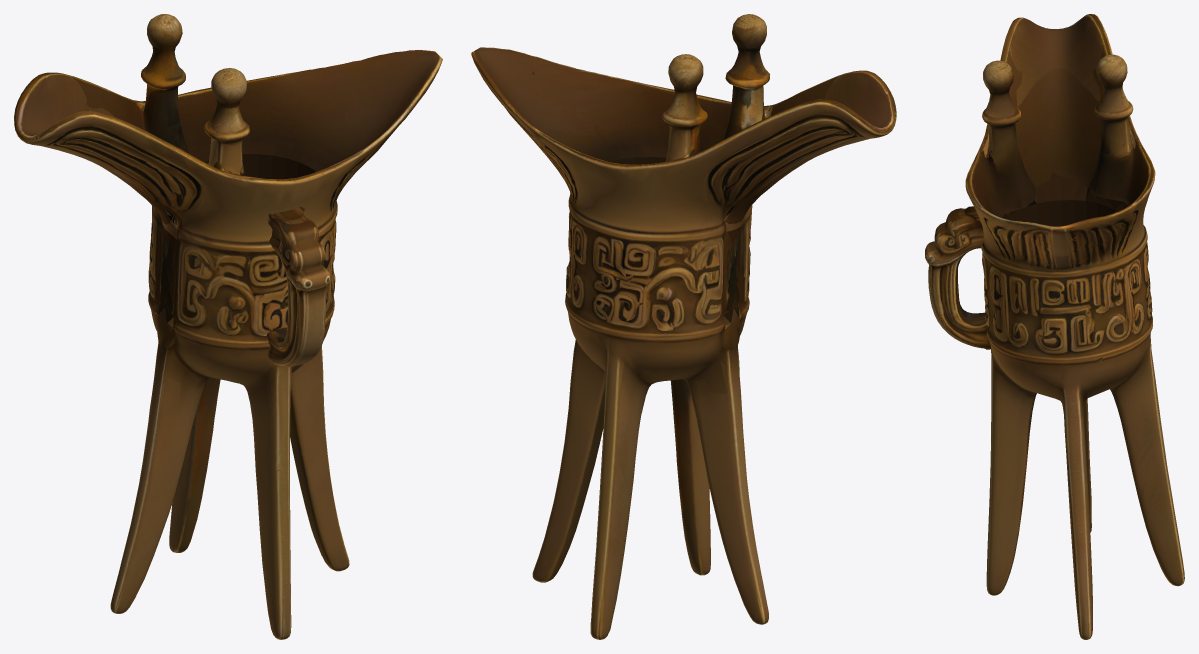
Rendered from Jue-cup 1.fbx.
3 renders of one model, left to right at view 1: azimuth 30°, elevation 25°; view 2: azimuth 150°, elevation 25°; view 3: azimuth 270°, elevation 25°, orthographic. The views are drawn at different scales.
Visible parts, largest first — view 1: Jue_cup; view 2: Jue_cup; view 3: Jue_cup.
Boxes of the visible parts, box(x1,y1,x2,y2) form: Jue_cup: box(14, 14, 442, 639); Jue_cup: box(471, 14, 896, 639); Jue_cup: box(925, 14, 1184, 639).
Size of the model in its own units: 11.34 by 15.16 by 6.91.
Materials: 1 (1 with a texture image).
